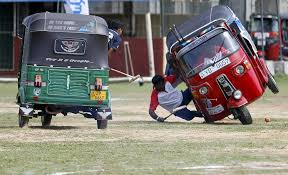tuk tuk: (167, 3, 282, 122), (14, 11, 113, 132)
